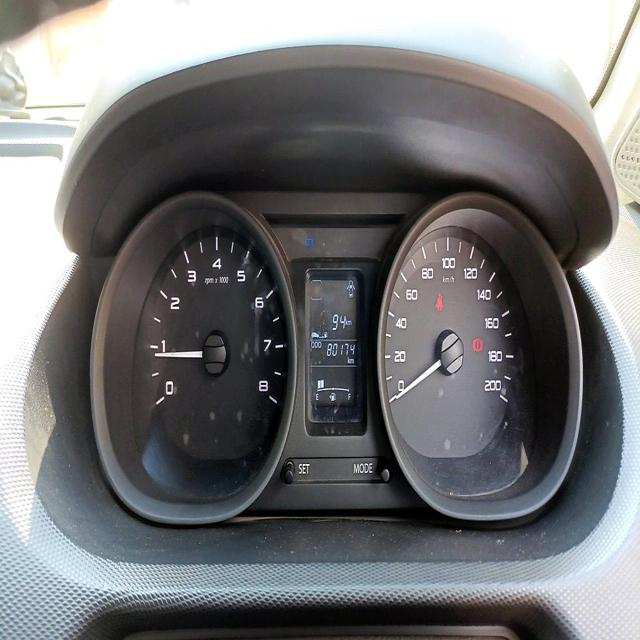odometer: (324, 338, 358, 359)
